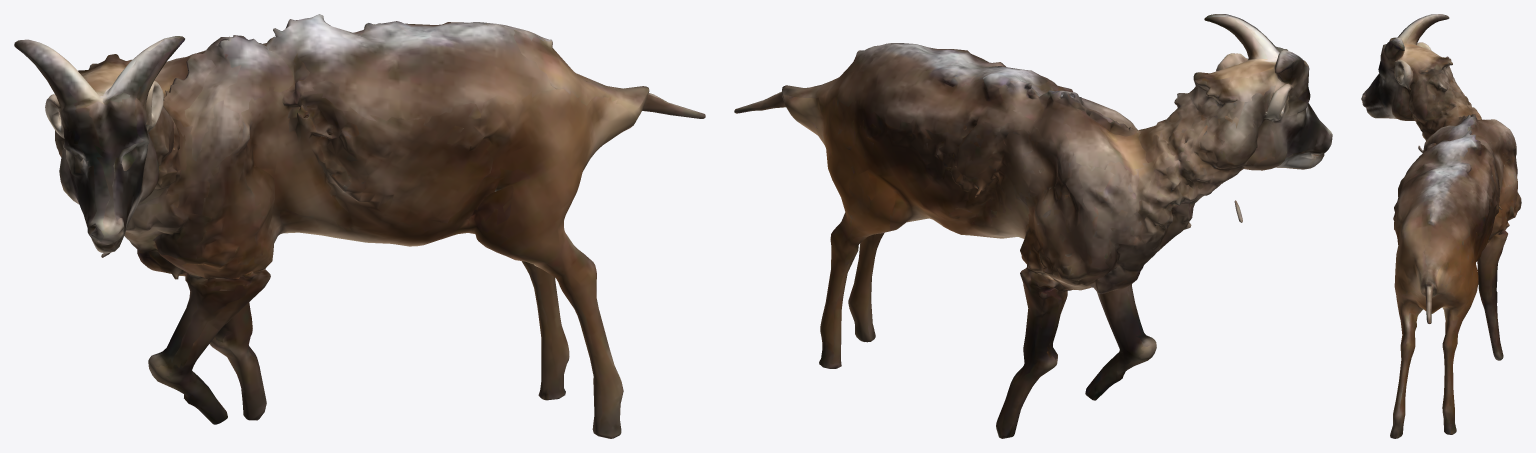
File: Muflon.glb
3 renders of one model, left to right at view 1: azimuth 30°, elevation 25°; view 2: azimuth 150°, elevation 25°; view 3: azimuth 270°, elevation 25°, orthographic. The views are drawn at different scales.
Visible parts, largest first — view 1: geometry_0; view 2: geometry_0; view 3: geometry_0.
Part boxes in pixels (left/top/right/bottom): geometry_0: left=14, top=14, right=705, bottom=438; geometry_0: left=734, top=14, right=1332, bottom=438; geometry_0: left=1361, top=14, right=1521, bottom=438.
Size of the model in its own units: 1 by 0.7092 by 0.3706.
1 material, 1 textured.
